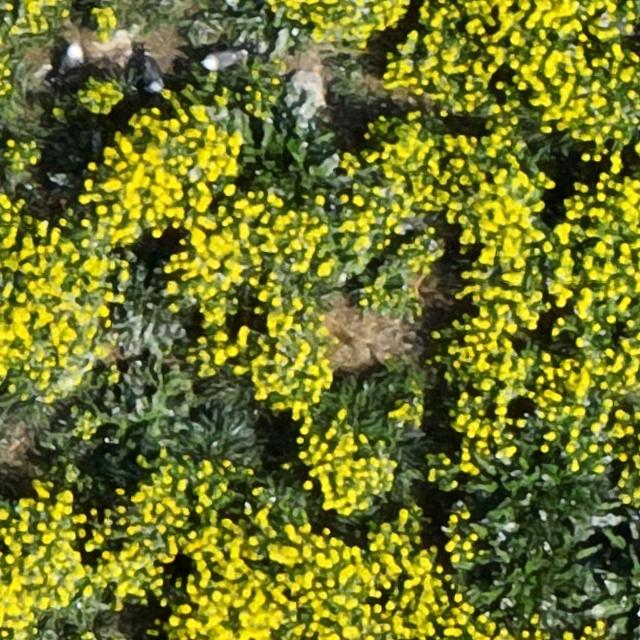umineko: (204, 50, 241, 70), (58, 42, 80, 74), (142, 58, 161, 91)
